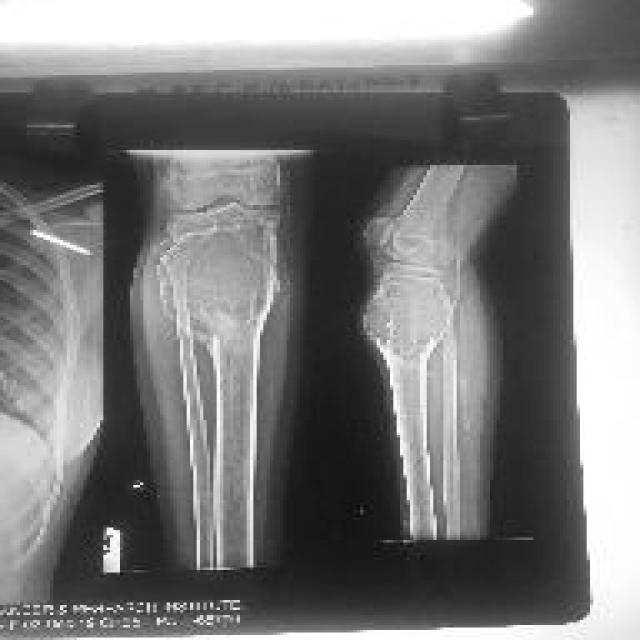bone-cancer: (164, 218, 280, 334), (363, 260, 457, 360)
